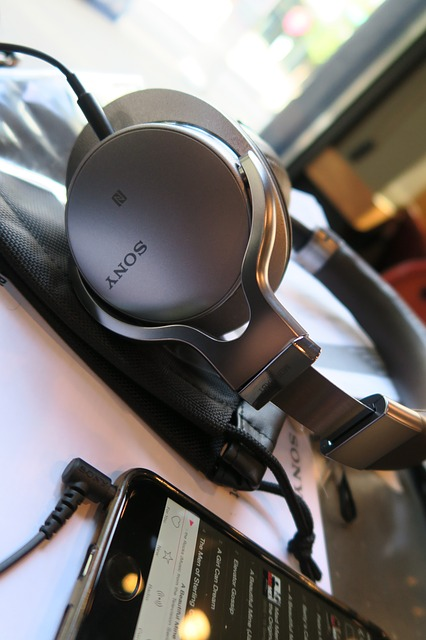headphones: (65, 89, 426, 471)
